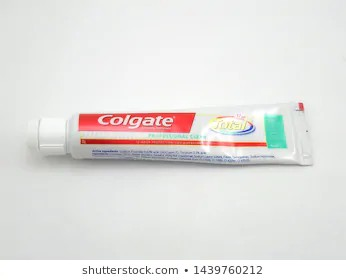colgate-total-150gm: (32, 101, 312, 164)
